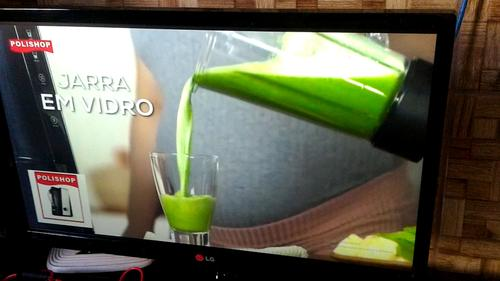Polishop #1: (28, 170, 93, 228)
